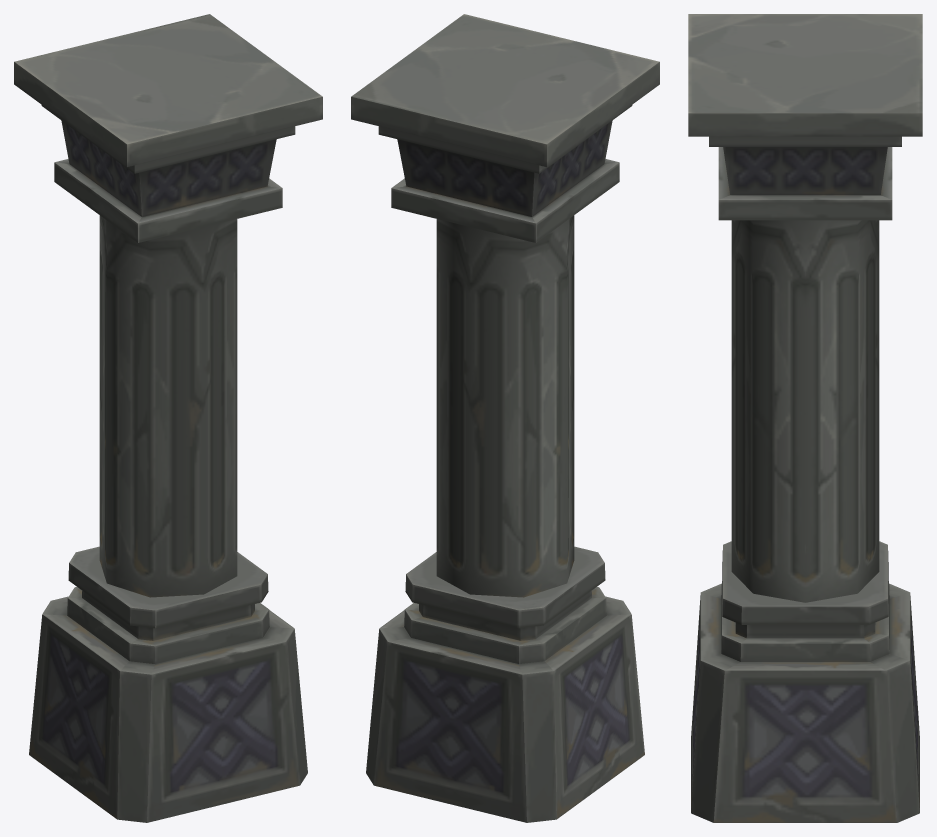
Rendered from sc_dungeon_moshenta_zhuzi_002_a.FBX.
3 views of the same model, side by side, from view 1: azimuth 30°, elevation 25°; view 2: azimuth 150°, elevation 25°; view 3: azimuth 270°, elevation 25° (orthographic). The views are drawn at different scales.
Parts seen in each view (by area): view 1: sc_dungeon_moshenta_zhuzi_002_a; view 2: sc_dungeon_moshenta_zhuzi_002_a; view 3: sc_dungeon_moshenta_zhuzi_002_a.
Boxes of the visible parts, x1=… form: sc_dungeon_moshenta_zhuzi_002_a: x1=14, y1=14, x2=322, y2=822; sc_dungeon_moshenta_zhuzi_002_a: x1=351, y1=14, x2=659, y2=822; sc_dungeon_moshenta_zhuzi_002_a: x1=688, y1=14, x2=922, y2=822.
Bounding box in the file's own units: 1.98 × 1.98 × 6.63.
Materials: 1 (1 with a texture image).
